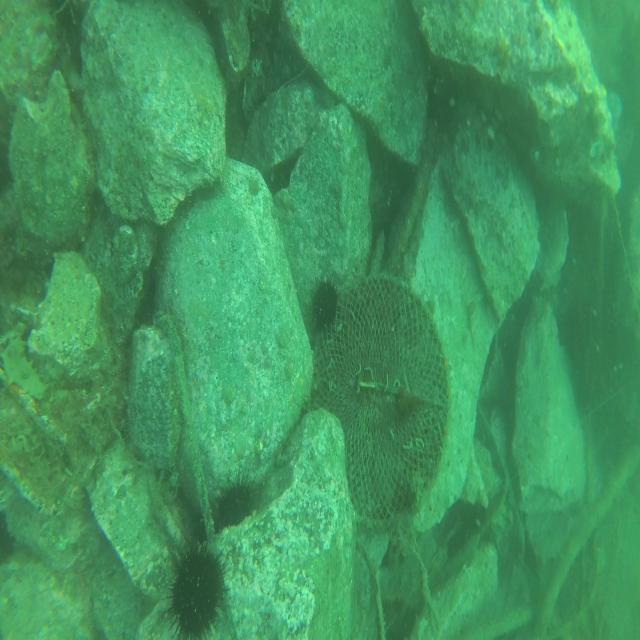echinus: (170, 543, 226, 640), (313, 280, 337, 329)
